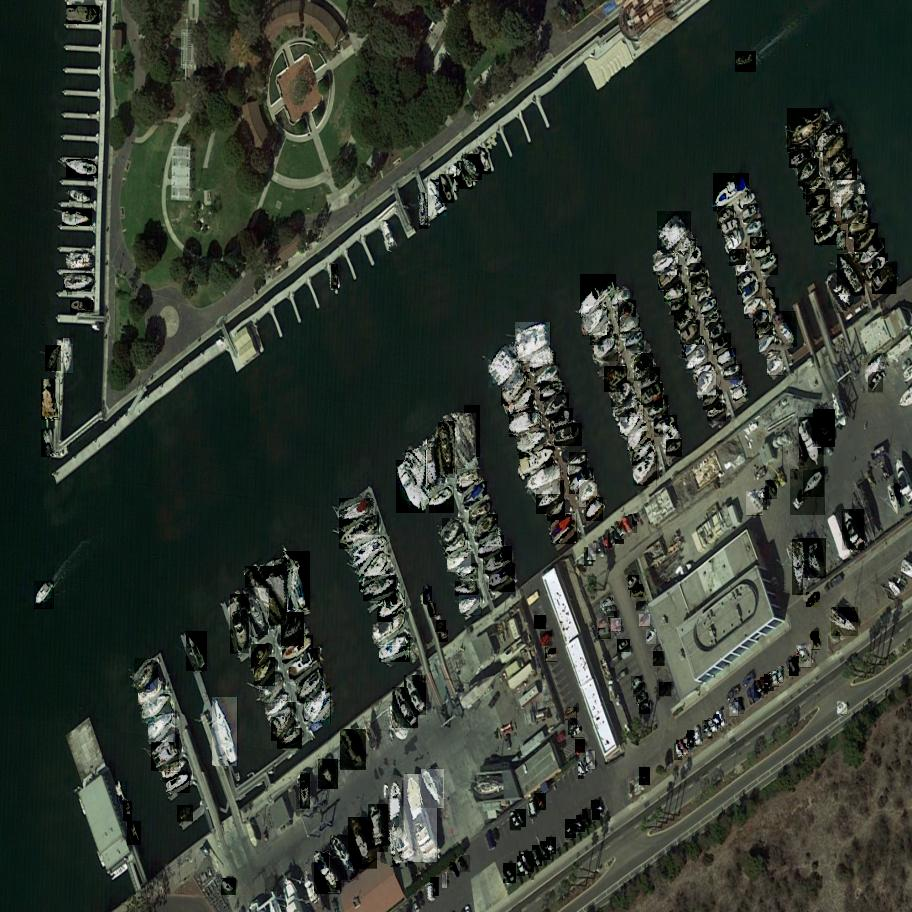large-vehicle: (789, 469, 830, 515)
ship: (403, 774, 439, 863), (243, 567, 289, 626), (783, 108, 832, 152), (441, 414, 479, 467), (211, 697, 239, 766), (577, 275, 620, 319), (403, 449, 442, 496), (511, 323, 558, 362), (484, 344, 525, 388), (282, 551, 312, 611), (388, 778, 408, 867), (654, 212, 696, 254), (336, 515, 384, 551), (396, 460, 428, 513), (710, 174, 754, 212), (347, 818, 379, 869), (368, 611, 413, 647), (329, 835, 362, 881), (145, 735, 187, 771), (357, 550, 393, 592), (241, 588, 270, 637), (798, 417, 825, 469), (516, 446, 559, 478), (312, 851, 344, 894), (285, 649, 325, 683), (835, 254, 866, 297), (795, 538, 828, 578), (522, 465, 565, 495), (278, 634, 317, 667), (348, 536, 392, 565), (533, 480, 569, 515), (499, 369, 533, 406), (229, 594, 250, 653), (146, 706, 180, 742), (302, 686, 335, 723), (335, 498, 377, 527), (826, 270, 856, 310), (269, 703, 300, 741), (829, 180, 871, 208), (368, 805, 393, 852), (392, 687, 420, 728), (339, 729, 367, 770), (139, 693, 177, 723), (295, 668, 327, 703), (826, 608, 864, 637), (131, 659, 162, 694), (832, 159, 860, 197), (853, 239, 888, 269), (480, 546, 516, 575), (841, 510, 866, 551), (376, 591, 408, 623), (631, 453, 662, 486), (486, 563, 520, 593), (505, 390, 540, 419), (420, 770, 446, 809), (403, 675, 428, 715), (360, 576, 400, 601), (870, 263, 900, 296), (513, 429, 551, 455), (376, 637, 414, 663), (772, 312, 799, 348), (549, 513, 580, 544), (618, 405, 648, 437), (821, 134, 850, 167), (135, 678, 169, 706), (279, 613, 307, 647), (812, 409, 837, 447), (439, 423, 456, 478), (839, 195, 870, 225), (852, 223, 882, 254), (258, 672, 286, 705), (185, 632, 208, 672), (506, 413, 544, 437), (580, 306, 610, 336), (460, 482, 491, 511), (591, 335, 623, 363), (542, 393, 574, 421), (464, 406, 481, 457), (252, 657, 280, 687), (600, 366, 630, 394), (532, 364, 563, 391), (813, 125, 844, 152), (566, 468, 598, 494), (426, 487, 458, 513), (846, 209, 875, 237), (655, 265, 686, 291), (803, 189, 834, 215), (550, 424, 585, 447), (427, 178, 448, 216), (684, 346, 712, 374), (828, 149, 855, 178), (274, 559, 287, 618), (609, 379, 636, 407), (41, 379, 59, 421), (864, 253, 891, 281), (548, 409, 577, 435), (440, 519, 466, 548), (796, 158, 822, 187), (442, 533, 472, 558), (159, 759, 191, 782), (476, 536, 508, 559), (812, 222, 844, 245), (800, 472, 828, 498), (466, 501, 497, 524), (639, 383, 666, 409), (631, 439, 657, 466), (626, 423, 651, 451), (863, 354, 888, 382), (31, 580, 55, 609), (316, 760, 340, 789), (445, 551, 476, 573), (453, 470, 484, 492), (647, 395, 671, 423), (633, 354, 657, 382), (527, 352, 559, 373), (64, 274, 96, 295), (476, 514, 500, 542), (809, 208, 838, 231), (66, 160, 99, 180), (66, 5, 99, 25), (640, 367, 663, 395), (577, 480, 600, 508), (786, 150, 818, 170), (679, 336, 708, 358), (606, 291, 636, 312), (261, 696, 291, 717), (678, 321, 704, 345), (275, 729, 306, 749), (617, 317, 645, 339), (652, 415, 680, 437), (792, 539, 803, 595), (696, 371, 720, 396), (461, 155, 484, 181), (651, 255, 680, 275), (164, 773, 193, 793), (736, 271, 760, 295), (741, 282, 765, 306), (617, 301, 639, 327), (742, 297, 768, 319), (458, 595, 484, 617), (612, 399, 642, 418), (671, 310, 699, 330), (800, 179, 828, 199), (538, 382, 567, 401), (669, 294, 694, 316), (588, 326, 616, 345), (250, 645, 272, 669), (585, 497, 606, 522), (733, 52, 759, 72), (66, 251, 93, 270), (62, 209, 92, 226), (428, 438, 438, 489), (438, 174, 455, 204), (683, 246, 704, 270), (711, 334, 735, 355), (456, 162, 474, 190), (691, 361, 716, 381), (700, 390, 725, 410), (887, 484, 902, 517), (546, 500, 568, 522), (716, 206, 737, 229), (624, 332, 648, 352), (716, 348, 740, 368), (42, 429, 58, 458), (702, 310, 724, 331), (759, 254, 781, 275), (567, 452, 591, 471), (382, 220, 397, 250), (661, 285, 687, 302), (45, 346, 62, 372), (699, 298, 720, 319), (691, 274, 711, 296), (661, 425, 680, 448), (720, 218, 743, 237), (748, 229, 769, 249), (757, 335, 779, 354), (745, 218, 767, 237), (705, 405, 729, 422), (708, 323, 727, 344), (300, 772, 311, 808), (740, 205, 762, 223), (126, 822, 142, 846), (695, 287, 715, 306), (664, 439, 685, 457), (731, 385, 752, 403), (887, 578, 905, 599), (455, 582, 480, 597), (765, 359, 787, 376), (753, 245, 775, 262), (753, 323, 776, 339), (752, 310, 771, 329), (688, 264, 707, 283), (735, 259, 753, 279), (114, 781, 129, 805), (69, 190, 91, 206), (727, 250, 749, 266), (63, 339, 73, 374), (70, 300, 93, 315), (176, 805, 195, 823), (677, 240, 699, 255), (722, 365, 744, 380), (457, 564, 479, 579), (479, 149, 491, 174), (420, 193, 427, 229), (123, 801, 132, 820), (331, 265, 338, 288), (435, 621, 448, 633), (423, 587, 432, 604), (764, 287, 776, 299), (769, 299, 780, 312), (439, 630, 450, 642), (451, 169, 463, 180), (448, 164, 458, 177), (838, 232, 845, 250), (567, 466, 581, 475), (428, 604, 437, 618), (452, 179, 459, 193)
small-vehicle: (745, 491, 765, 516), (795, 645, 813, 668), (867, 372, 885, 393), (219, 878, 239, 895), (519, 851, 534, 873), (804, 592, 822, 608), (609, 526, 625, 544), (651, 651, 669, 667), (764, 480, 779, 499), (509, 811, 523, 831), (599, 597, 616, 613), (808, 632, 822, 651), (564, 820, 578, 839), (583, 548, 597, 567), (504, 863, 517, 883), (448, 862, 461, 882), (658, 682, 674, 698), (544, 647, 561, 662), (614, 522, 629, 539), (458, 855, 472, 873), (621, 517, 634, 536), (539, 632, 555, 647), (596, 618, 611, 634), (580, 756, 594, 773), (533, 794, 547, 811), (515, 809, 528, 827), (753, 680, 766, 698), (539, 842, 552, 860), (702, 720, 714, 739), (581, 810, 593, 829), (533, 616, 549, 630), (763, 674, 776, 691), (789, 657, 800, 677), (639, 767, 651, 785), (716, 710, 728, 728), (567, 720, 581, 735), (633, 683, 647, 698), (630, 677, 645, 691), (606, 611, 620, 626), (638, 614, 653, 628), (586, 751, 597, 770), (630, 584, 646, 597), (609, 619, 625, 632), (545, 837, 557, 854), (588, 543, 600, 560), (591, 800, 601, 820), (532, 846, 542, 866), (430, 877, 440, 897), (687, 730, 698, 748), (575, 740, 589, 754), (677, 740, 690, 755), (617, 640, 632, 653), (628, 576, 641, 591), (646, 629, 658, 645), (628, 514, 638, 533), (837, 701, 850, 715), (564, 708, 579, 720), (517, 856, 526, 876), (529, 799, 538, 818), (673, 743, 683, 760), (729, 702, 740, 717), (576, 815, 585, 833), (735, 698, 745, 714), (712, 715, 722, 731), (651, 645, 664, 657), (636, 694, 650, 705), (638, 702, 652, 713), (694, 726, 702, 745), (598, 630, 613, 640), (760, 678, 769, 694), (572, 728, 586, 738), (635, 602, 649, 612), (608, 529, 615, 548), (761, 488, 767, 510), (710, 719, 718, 735), (427, 884, 433, 902), (773, 672, 780, 687), (777, 667, 783, 682), (604, 607, 614, 616), (685, 735, 690, 751), (442, 873, 447, 888), (579, 762, 583, 778)
